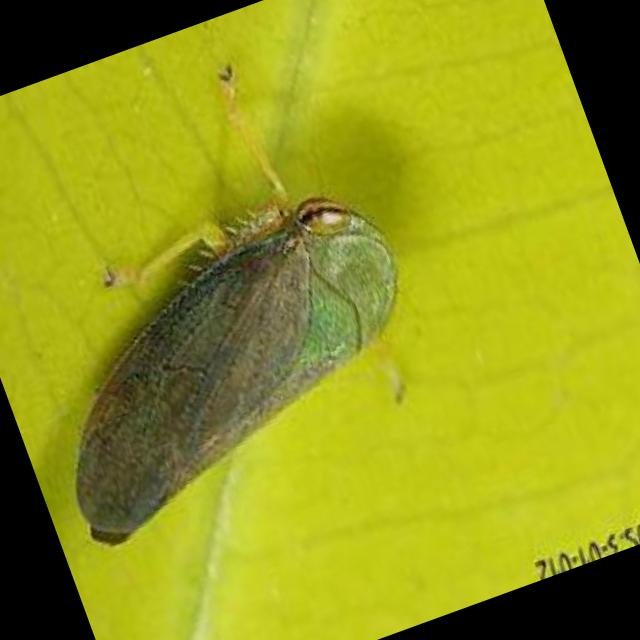green-leafhopper: (14, 170, 440, 538)
